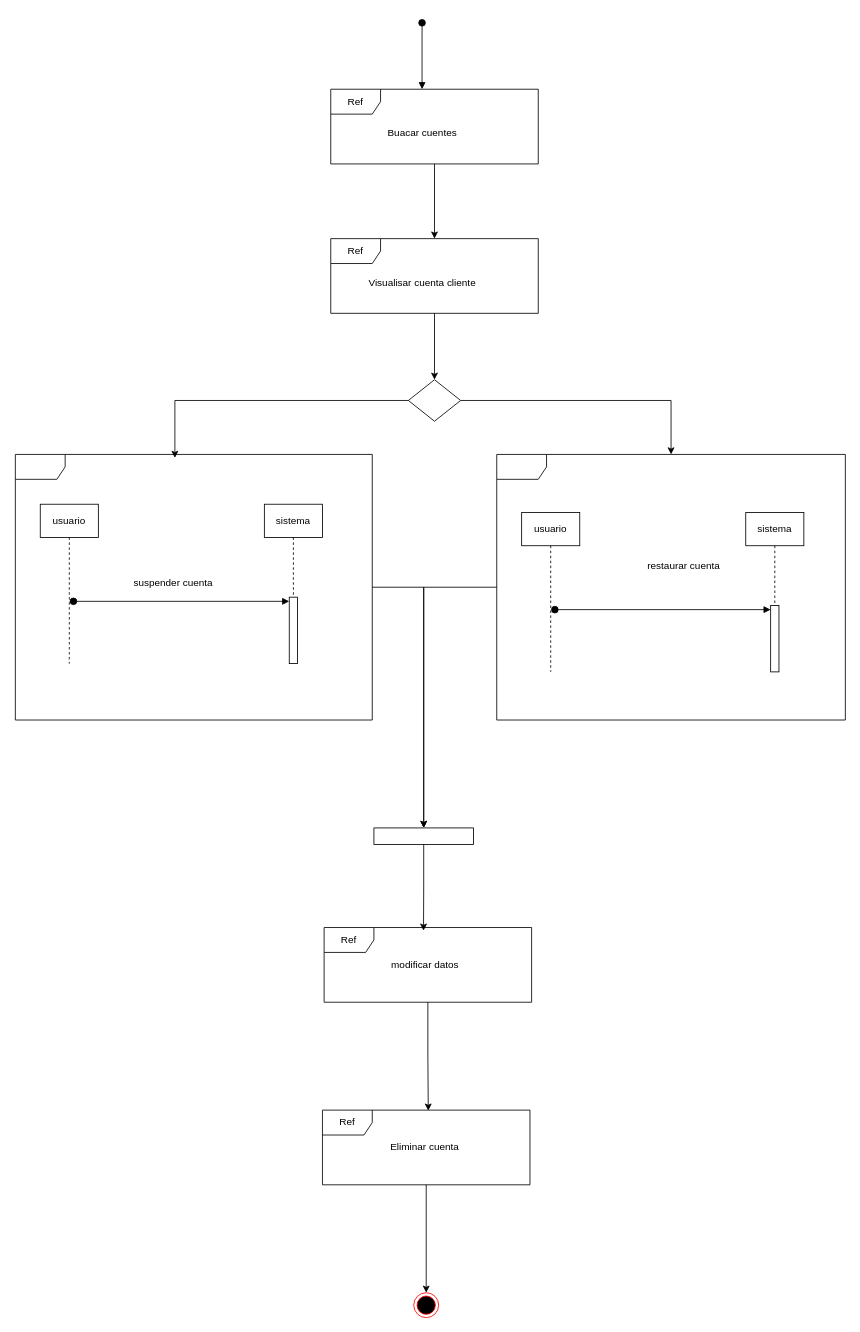
Image size: 860x1332. Some labels were removed from this diagram. Each missing label, with the box of its shape:
Sd cuenta: (496, 454, 845, 720)
Sd Suspencion: (15, 454, 372, 720)
